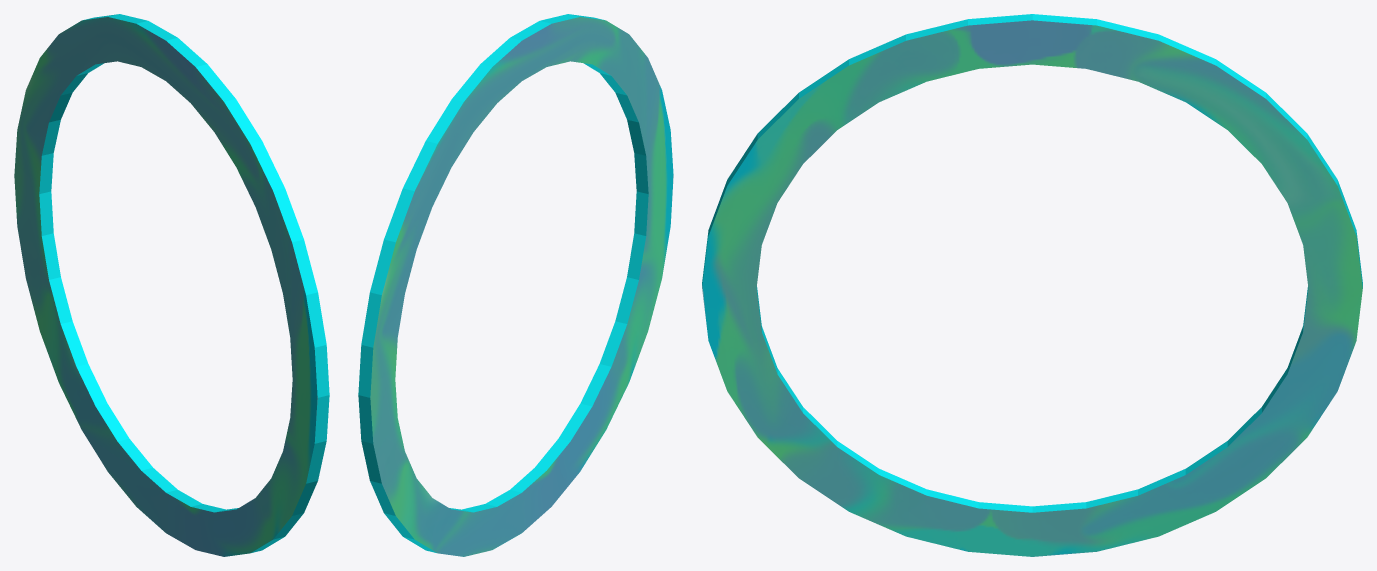
The model's file is GateOut.fbx.
The picture shows the model from 3 angles, left to right: view 1: azimuth 30°, elevation 25°; view 2: azimuth 150°, elevation 25°; view 3: azimuth 270°, elevation 25°; orthographic projection. The views are drawn at different scales.
Visible parts, largest first — view 1: GateOut; view 2: GateOut; view 3: GateOut.
Part boxes in pixels (x1,y1,x2,y2): GateOut: (14, 14, 329, 556); GateOut: (358, 14, 673, 556); GateOut: (702, 14, 1362, 556).
Bounding box in the file's own units: 5 × 196 × 219.
1 material, 1 textured.
